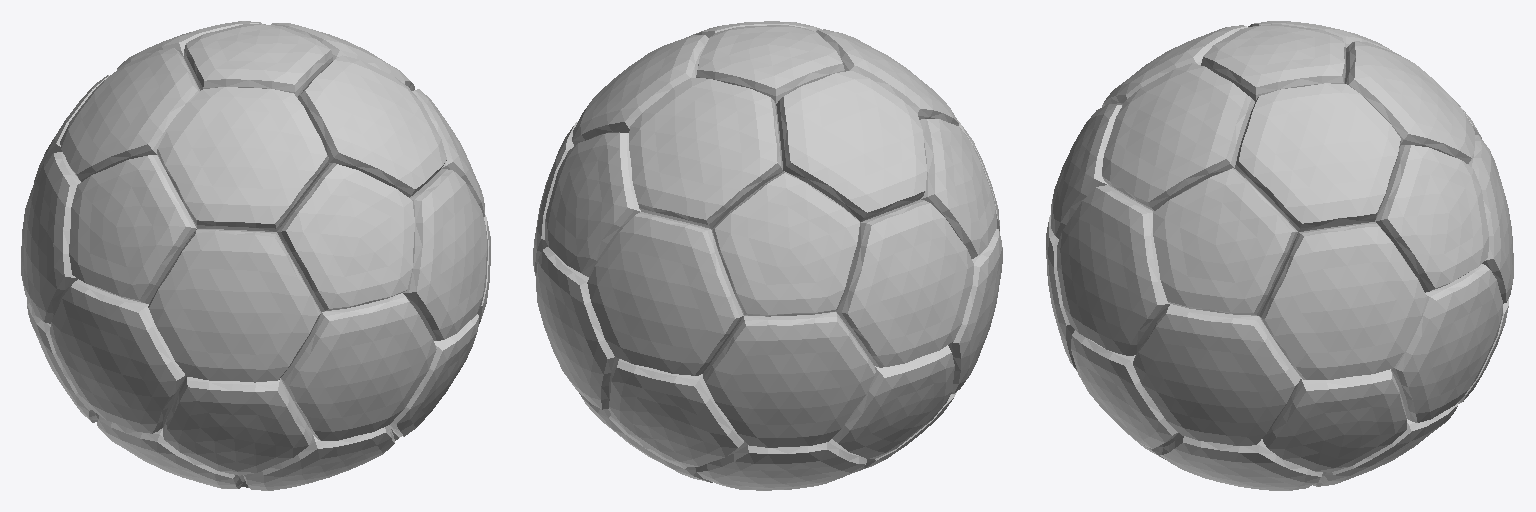
Rendered from soccerball_obj.obj.
The picture shows the model from 3 angles: view 1: azimuth 30°, elevation 25°; view 2: azimuth 150°, elevation 25°; view 3: azimuth 270°, elevation 25°; orthographic projection.
Parts seen in each view (by area): view 1: Mesh1; view 2: Mesh1; view 3: Mesh1.
Boxes of the visible parts, x1,y1,x2,y2 form: Mesh1: [21, 21, 490, 490]; Mesh1: [533, 21, 1002, 490]; Mesh1: [1046, 21, 1513, 490].
Size of the model in its own units: 3.21 by 3.21 by 3.22.